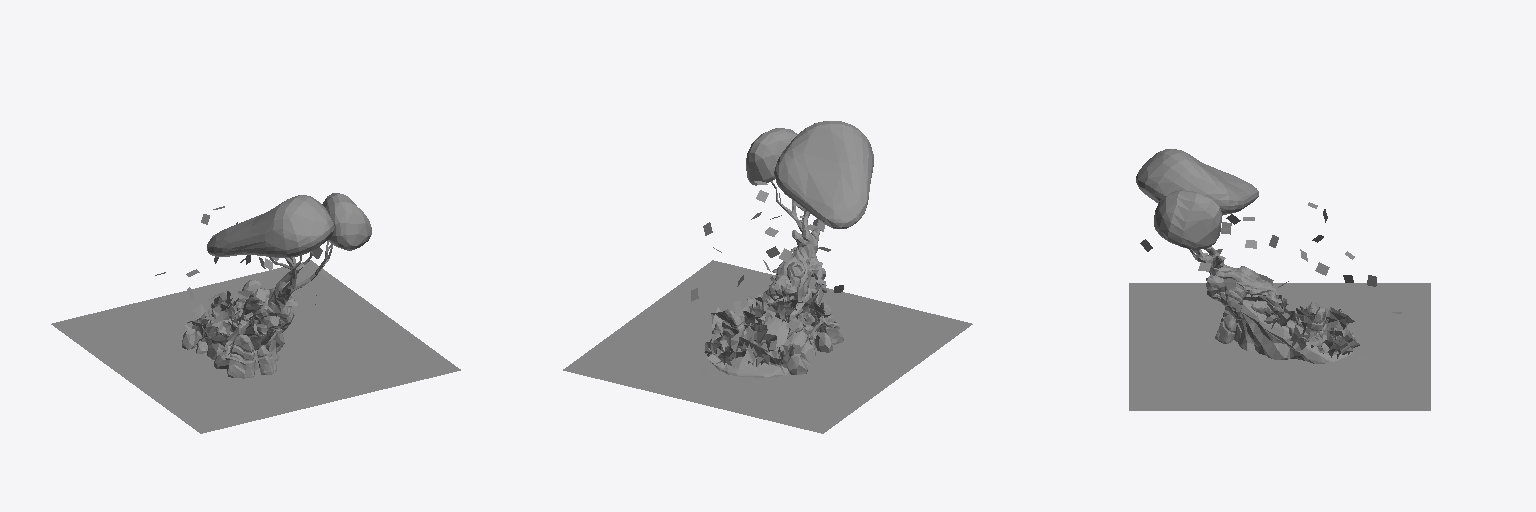
The picture shows the model from 3 angles: view 1: azimuth 30°, elevation 25°; view 2: azimuth 150°, elevation 25°; view 3: azimuth 270°, elevation 25°; orthographic projection.
Visible parts, largest first — view 1: Plane001, Object009, Group54563, ZBrush_defualt_group004, Object002; view 2: Plane001, Object009, Group54563, ZBrush_defualt_group004; view 3: Plane001, Object009, ZBrush_defualt_group004, Group54563.
Boxes of the visible parts, <box> form: Plane001: <box>51,260,460,433</box>; Object009: <box>207,193,371,257</box>; Group54563: <box>223,241,332,364</box>; ZBrush_defualt_group004: <box>196,316,284,369</box>; Object002: <box>227,334,255,378</box>; Plane001: <box>563,260,972,433</box>; Object009: <box>746,121,873,228</box>; Group54563: <box>746,181,839,347</box>; ZBrush_defualt_group004: <box>712,268,826,377</box>; Plane001: <box>1129,283,1430,410</box>; Object009: <box>1136,149,1258,249</box>; ZBrush_defualt_group004: <box>1206,282,1355,363</box>; Group54563: <box>1189,246,1306,337</box>.
Bounding box in the file's own units: 654 × 468 × 654.